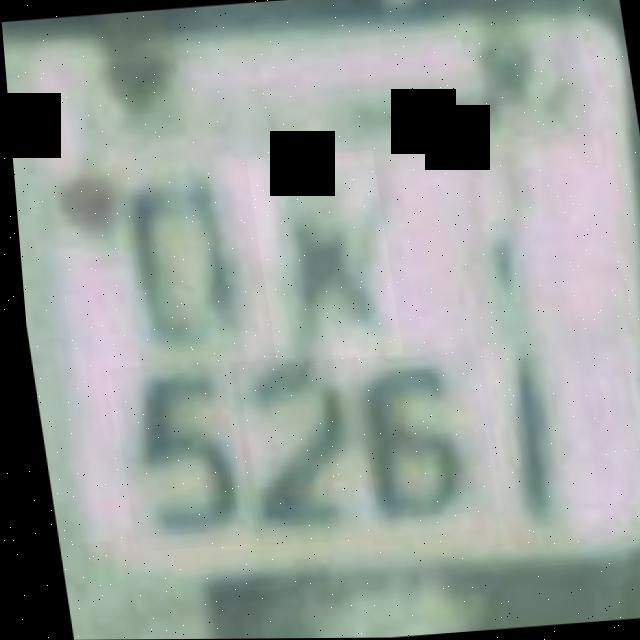1: (471, 305, 592, 524)
2: (222, 353, 374, 547)
5: (102, 359, 254, 553)
6: (323, 328, 494, 539)
X: (242, 150, 397, 364)
